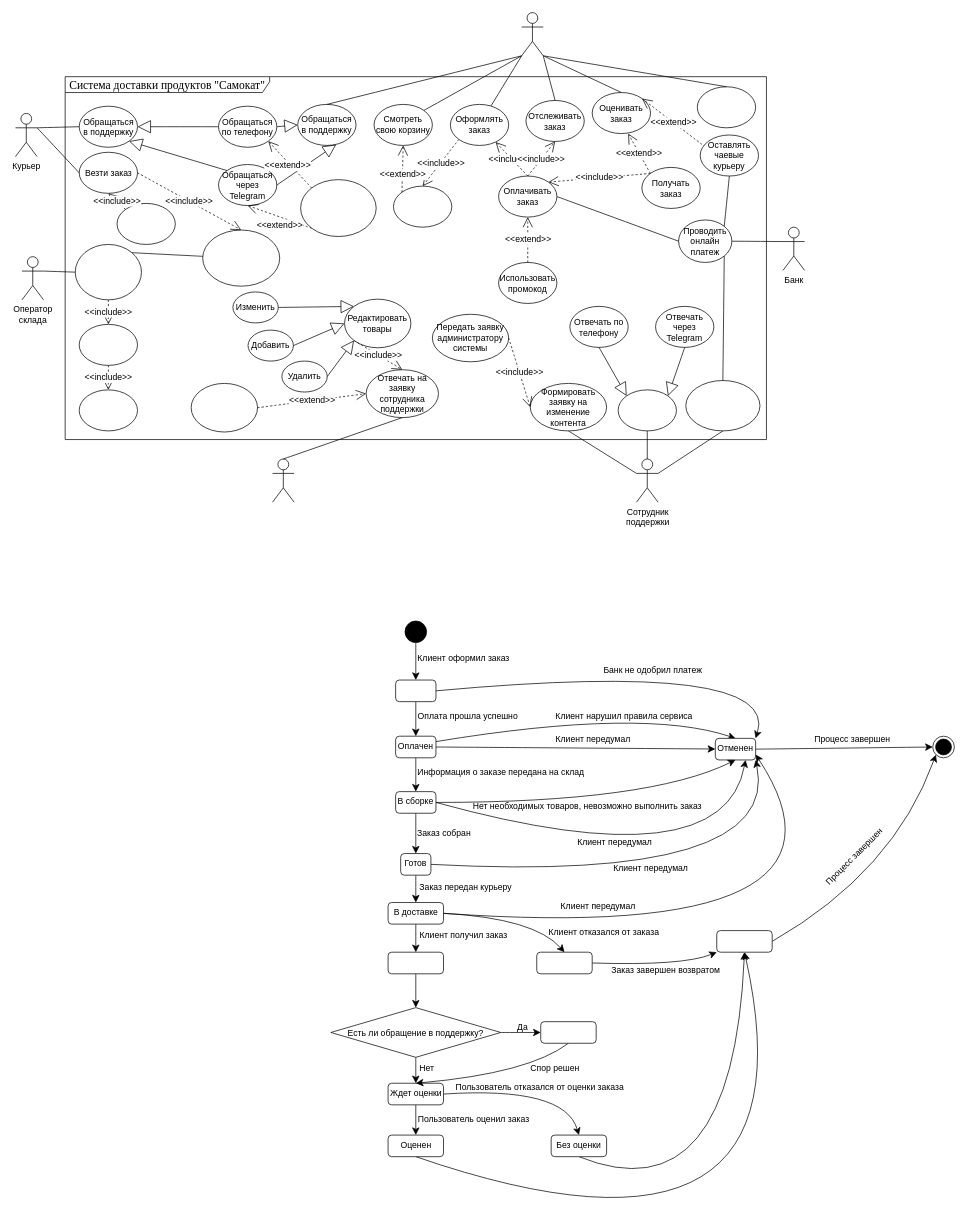
The diagram is 967 pixels wide and 1210 high, and some of its shapes have lost their labels. Here are the shapes that lost their labels. From the top down, the centre of each, then its label:
point (532, 34): Клиент
point (726, 107): Отменять заказ
point (145, 223): Помечать доставленный заказ
point (338, 208): Оценивать работу сотрудника поддержки
point (422, 206): Собирать корзину продуктов
point (108, 272): Передавать пакеты с продуктами курьеру
point (241, 257): Получать заказ от оператора склада
point (108, 344): Собирать продукты по списку
point (108, 410): Упаковывать продукты в пакеты
point (224, 407): Формировать обращение разработчикам
point (646, 410): Отвечать на обращение
point (722, 405): Оформлять заявку на возврат средств
point (283, 480): Администратор системы
point (415, 690): Создан
point (744, 941): Завершен
point (415, 962): Доставлен
point (564, 962): Возвращен
point (568, 1032): В споре
